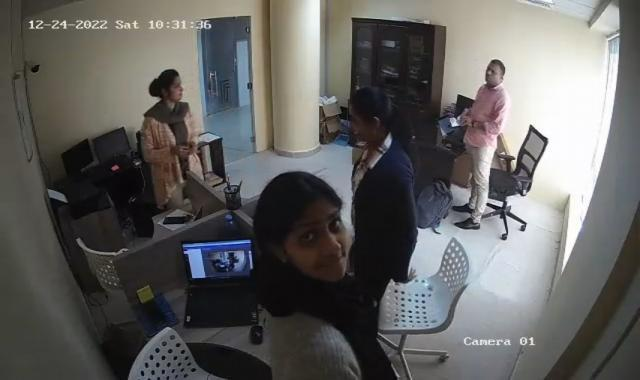no_hairnet: (258, 171, 354, 287), (339, 83, 394, 142), (146, 62, 186, 104), (483, 57, 505, 94)
